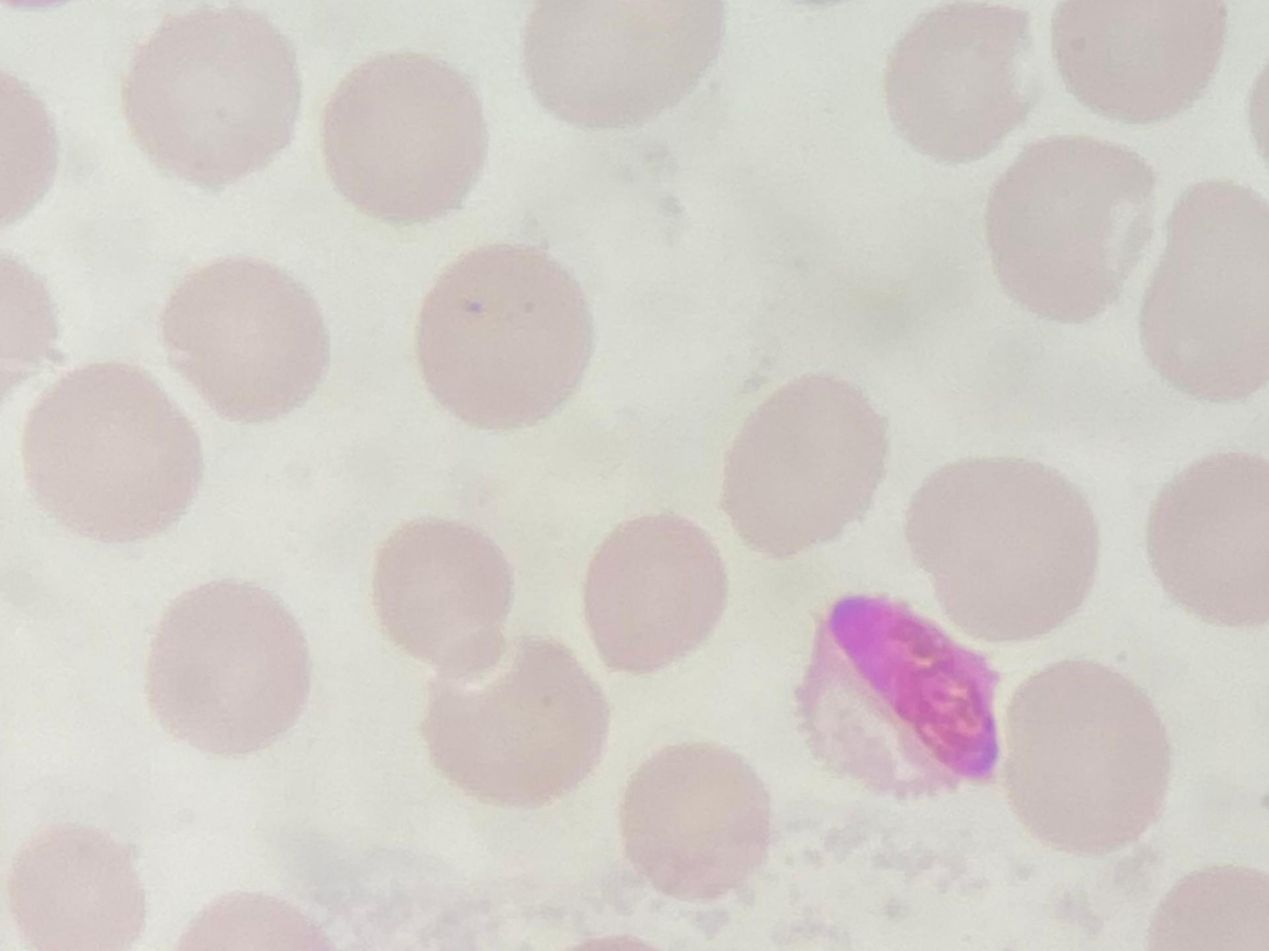Infected: (796, 588, 1010, 796)
Uninfected: (909, 457, 1095, 638), (414, 245, 601, 424), (20, 363, 204, 543), (983, 139, 1155, 324), (1002, 663, 1168, 850), (125, 10, 302, 185), (421, 640, 605, 806), (143, 580, 315, 757), (720, 375, 890, 553), (319, 55, 492, 222), (157, 255, 332, 420), (1140, 179, 1269, 400), (617, 743, 773, 901), (523, 1, 715, 129), (580, 514, 732, 672), (883, 3, 1034, 159), (371, 517, 519, 674), (1143, 452, 1268, 626), (1056, 2, 1223, 123), (9, 823, 144, 948)
